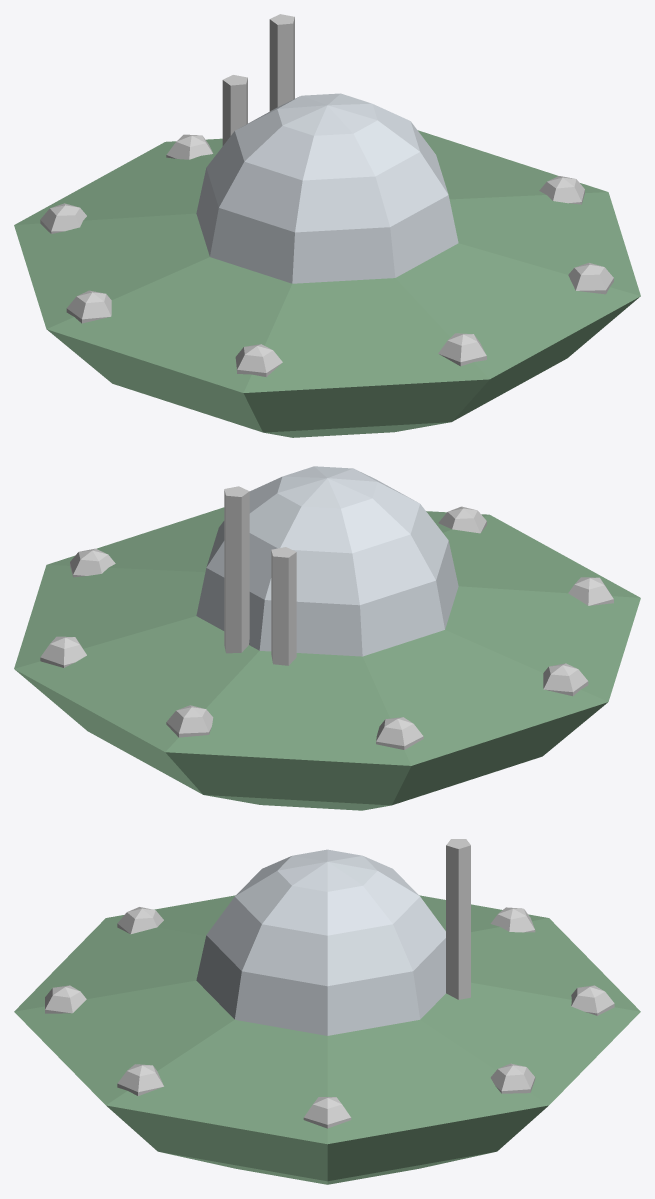
Rendered from UFO_Large.fbx.
3 views of the same model, one above another, from view 1: azimuth 30°, elevation 25°; view 2: azimuth 150°, elevation 25°; view 3: azimuth 270°, elevation 25° (orthographic). The views are drawn at different scales.
Parts seen in each view (by area): view 1: ufo, pSphere3 (×4), pSphere2 (×3), antenna1, antenna2; view 2: ufo, pSphere2 (×4), antenna1, antenna2, pSphere3 (×3); view 3: ufo, antenna1, pSphere2 (×4), pSphere3 (×3).
Boxes of the visible parts, x1,y1,x2,y2 form: ufo: (14, 93, 640, 437); pSphere3 (×4): (66, 263, 613, 377); pSphere2 (×3): (40, 134, 584, 233); antenna1: (269, 14, 294, 111); antenna2: (222, 75, 247, 145); ufo: (14, 466, 640, 810); pSphere2 (×4): (40, 548, 423, 749); antenna1: (224, 486, 249, 653); antenna2: (271, 547, 296, 665); pSphere3 (×3): (438, 506, 613, 696); ufo: (14, 849, 640, 1184); antenna1: (446, 839, 470, 999); pSphere2 (×4): (303, 907, 614, 1128); pSphere3 (×3): (45, 907, 163, 1095).
Size of the model in its own units: 143 by 75.08 by 143.
